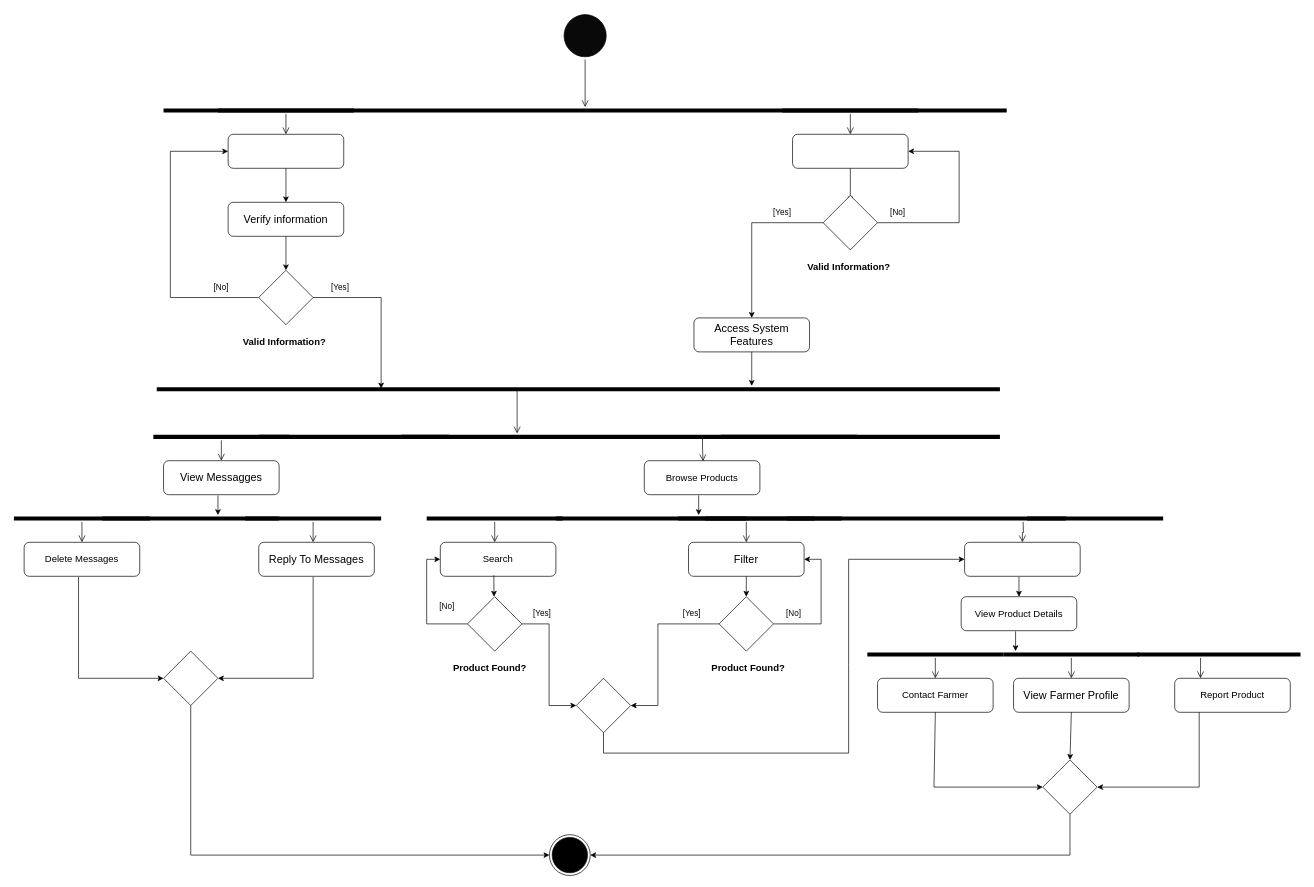
This 1314x887 diagram has some shape labels left out. Here are the shapes that lost their labels. From the top down, the centre of each, then its label:
[285,151]: Sign Up
[850,151]: Login
[1022,559]: View Available Products
